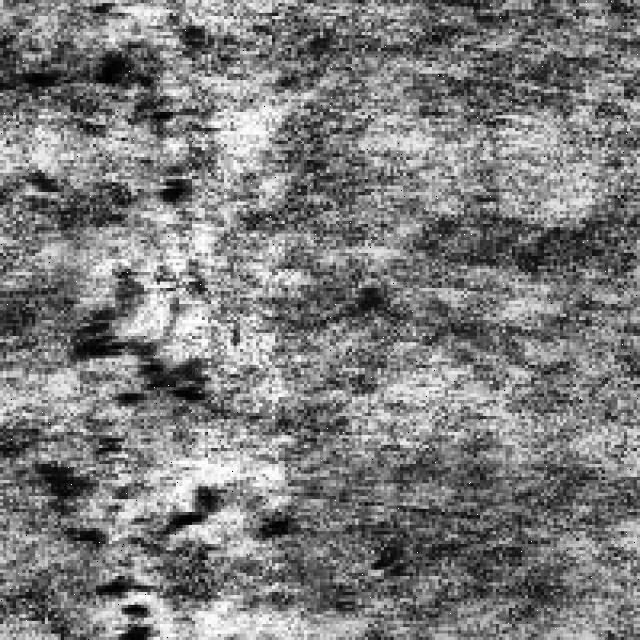Crazing: (48, 304, 227, 637), (38, 29, 202, 205)
